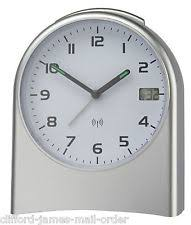alarm_clock: (9, 9, 184, 215), (15, 9, 184, 215)
